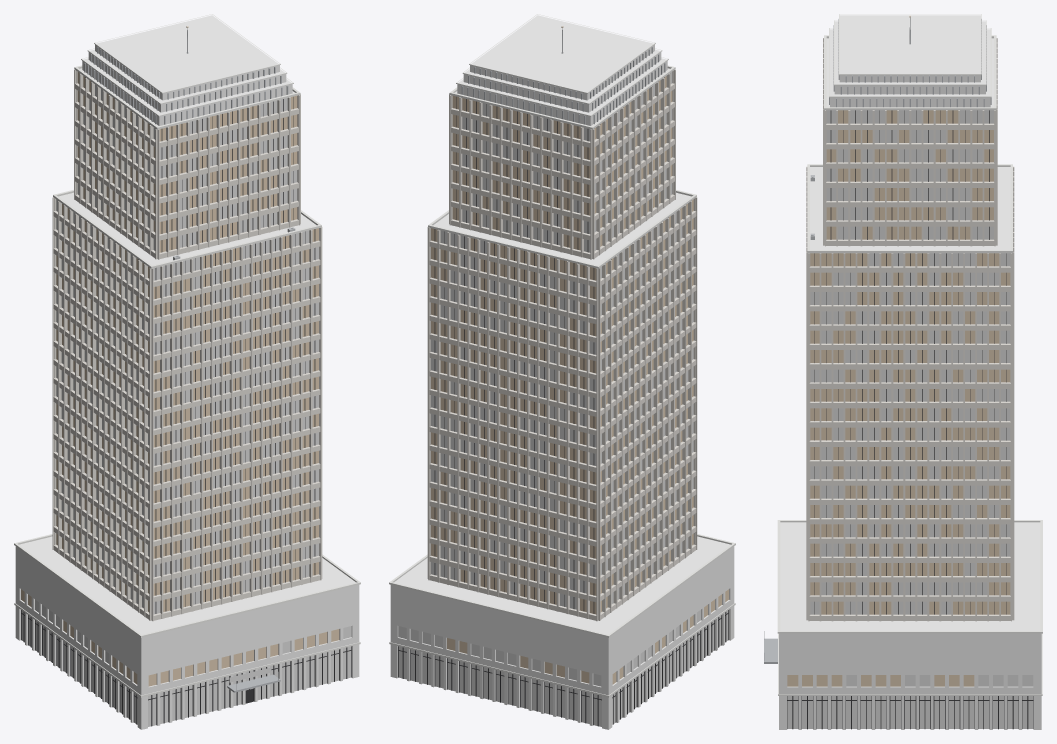
The model's file is tower_hero440.glb.
3 renders of one model, left to right at view 1: azimuth 30°, elevation 25°; view 2: azimuth 150°, elevation 25°; view 3: azimuth 270°, elevation 25°, orthographic. The views are drawn at different scales.
Visible parts, largest first — view 1: tower_hero440_Walls, tower_hero440_Glass, tower_hero440_WindowsLit, tower_hero440_Walls2, tower_hero440_Roof, tower_hero440_Frames, tower_hero440_Trim, tower_hero440_Accent; view 2: tower_hero440_Walls, tower_hero440_Glass, tower_hero440_WindowsLit, tower_hero440_Walls2, tower_hero440_Roof, tower_hero440_Frames, tower_hero440_Trim, tower_hero440_Accent; view 3: tower_hero440_Walls, tower_hero440_WindowsLit, tower_hero440_Glass, tower_hero440_Roof, tower_hero440_Walls2, tower_hero440_Frames, tower_hero440_Trim, tower_hero440_Accent.
Boxes of the visible parts, <box> form: tower_hero440_Walls: <box>52,69,322,621</box>; tower_hero440_Glass: <box>21,72,339,686</box>; tower_hero440_WindowsLit: <box>21,84,351,726</box>; tower_hero440_Walls2: <box>15,45,359,729</box>; tower_hero440_Roof: <box>19,15,355,634</box>; tower_hero440_Frames: <box>21,77,351,726</box>; tower_hero440_Trim: <box>14,14,360,697</box>; tower_hero440_Accent: <box>84,47,288,692</box>; tower_hero440_Walls: <box>427,69,697,621</box>; tower_hero440_Glass: <box>431,76,728,684</box>; tower_hero440_WindowsLit: <box>398,72,728,726</box>; tower_hero440_Walls2: <box>390,45,734,729</box>; tower_hero440_Roof: <box>394,15,730,634</box>; tower_hero440_Frames: <box>398,77,728,726</box>; tower_hero440_Trim: <box>389,14,735,697</box>; tower_hero440_Accent: <box>461,47,665,124</box>; tower_hero440_Walls: <box>806,38,1014,621</box>; tower_hero440_WindowsLit: <box>787,110,1033,728</box>; tower_hero440_Glass: <box>787,110,1010,686</box>; tower_hero440_Roof: <box>780,15,1040,630</box>; tower_hero440_Walls2: <box>779,75,1041,729</box>; tower_hero440_Frames: <box>787,110,1033,729</box>; tower_hero440_Trim: <box>777,14,1042,695</box>; tower_hero440_Accent: <box>764,19,991,663</box>.
Size of the model in its own units: 161 by 442 by 170.
